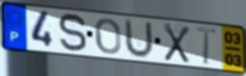4: (29, 9, 58, 51)
O: (93, 17, 122, 55)
S: (57, 12, 89, 54)
T: (195, 25, 219, 66)
U: (123, 18, 155, 60)
X: (162, 21, 191, 65)
